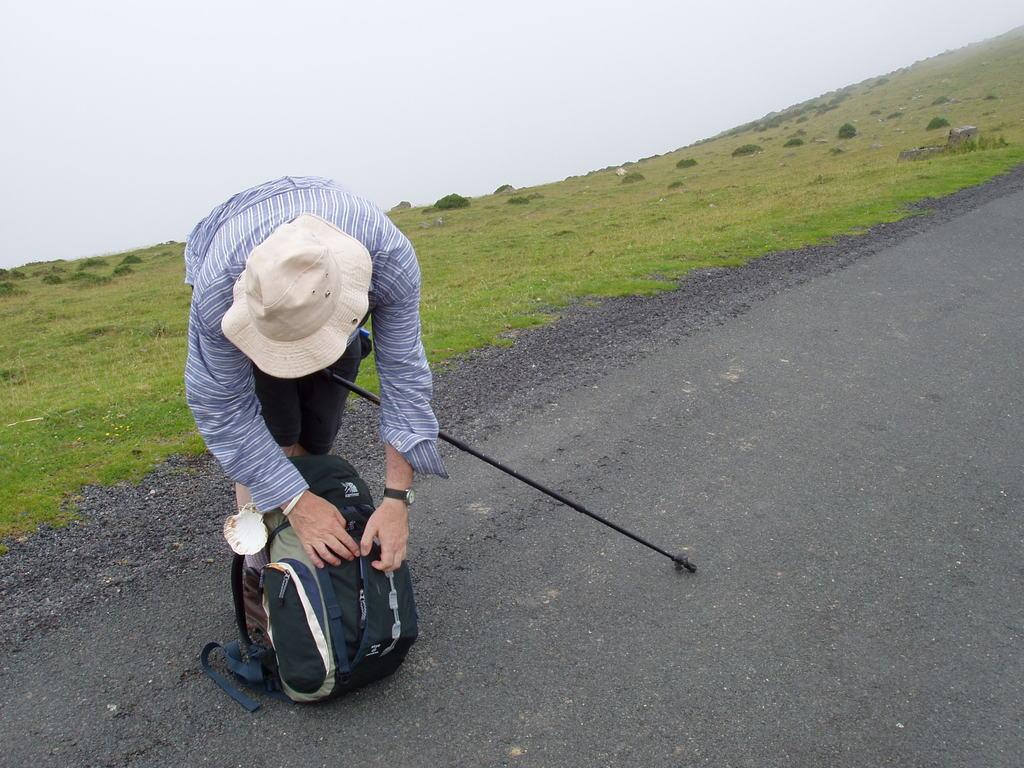Luggage-and-bags: (205, 492, 407, 698)
